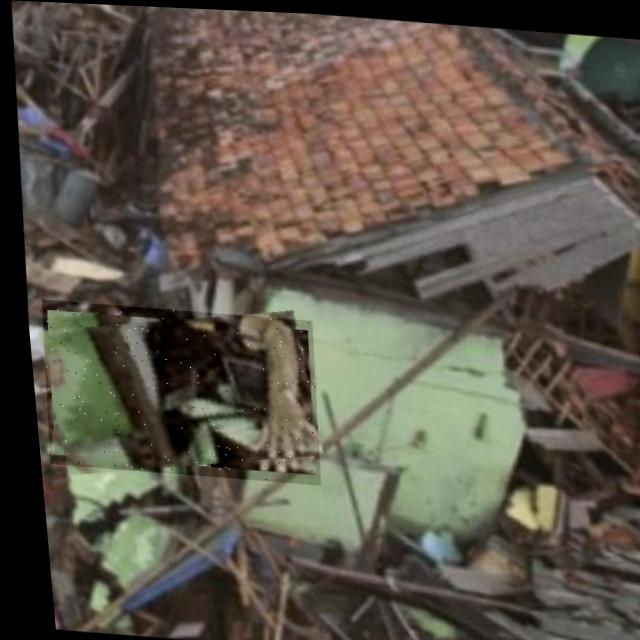Person in Rubble: (29, 299, 318, 482)
